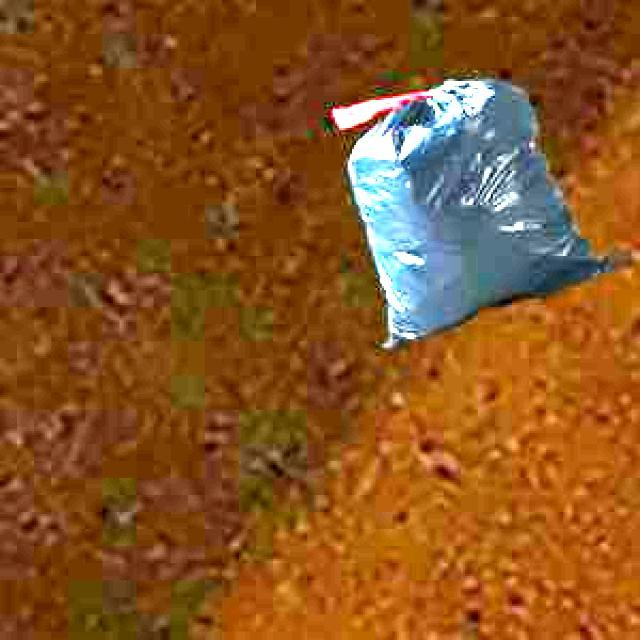Garbage_Bag: (329, 76, 622, 344)
